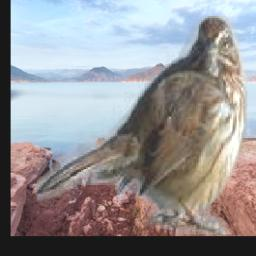Sparrow: (37, 17, 247, 235)
